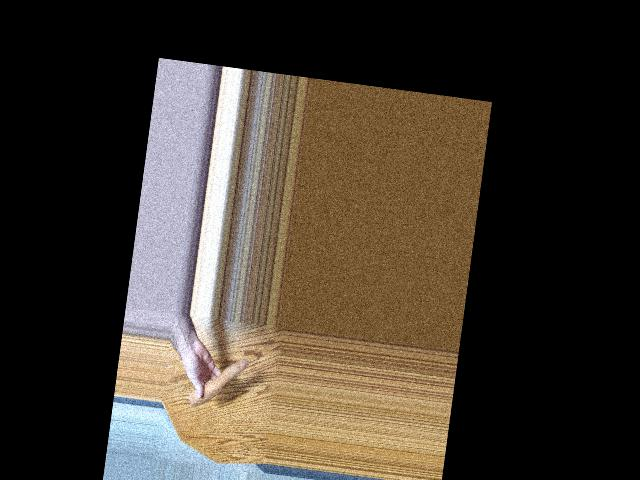sweet_potato: (187, 353, 247, 410)
